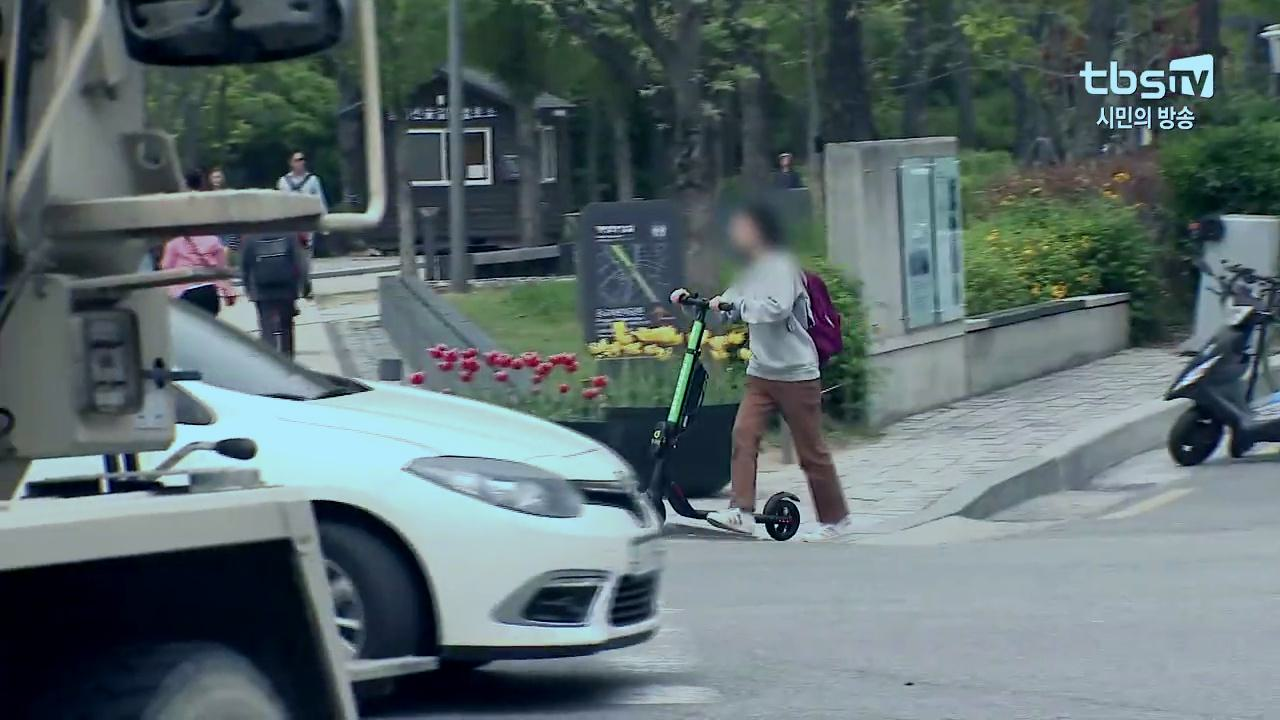nonhelmet: (636, 196, 868, 546)
